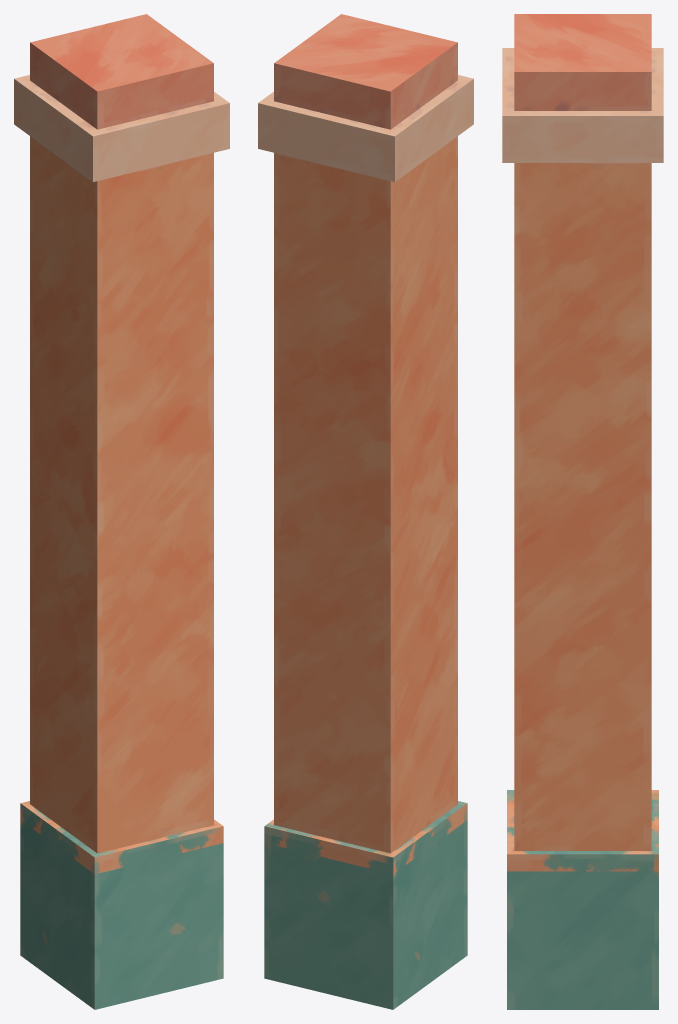
File: corner2_low.fbx
3 renders of one model, left to right at view 1: azimuth 30°, elevation 25°; view 2: azimuth 150°, elevation 25°; view 3: azimuth 270°, elevation 25°, orthographic. The views are drawn at different scales.
Parts seen in each view (by area): view 1: corner2; view 2: corner2; view 3: corner2.
Boxes of the visible parts, x1,y1,x2,y2 form: corner2: [14, 14, 229, 1009]; corner2: [258, 14, 473, 1009]; corner2: [502, 14, 663, 1009].
Size of the model in its own units: 1.88 by 12 by 1.88.
1 material, 1 textured.
